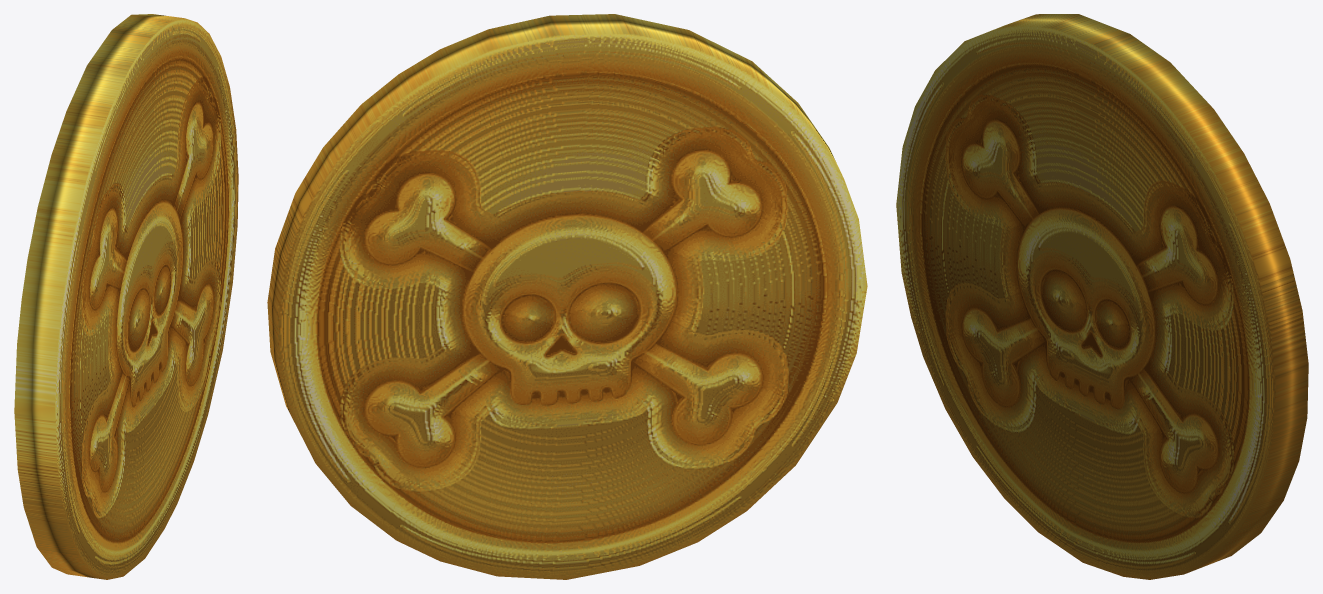
The model's file is Coin4.glb.
The picture shows the model from 3 angles, left to right: view 1: azimuth 30°, elevation 25°; view 2: azimuth 150°, elevation 25°; view 3: azimuth 270°, elevation 25°; orthographic projection. The views are drawn at different scales.
Parts seen in each view (by area): view 1: Cylinder.004; view 2: Cylinder.004; view 3: Cylinder.004.
Part boxes in pixels (bbox=[...]): Cylinder.004: bbox=[14, 14, 238, 579]; Cylinder.004: bbox=[267, 14, 867, 579]; Cylinder.004: bbox=[896, 14, 1308, 579].
Size of what is drawn, in the model's own units: 1.23 by 1.53 by 1.09.
Materials: 1 (1 with a texture image).
